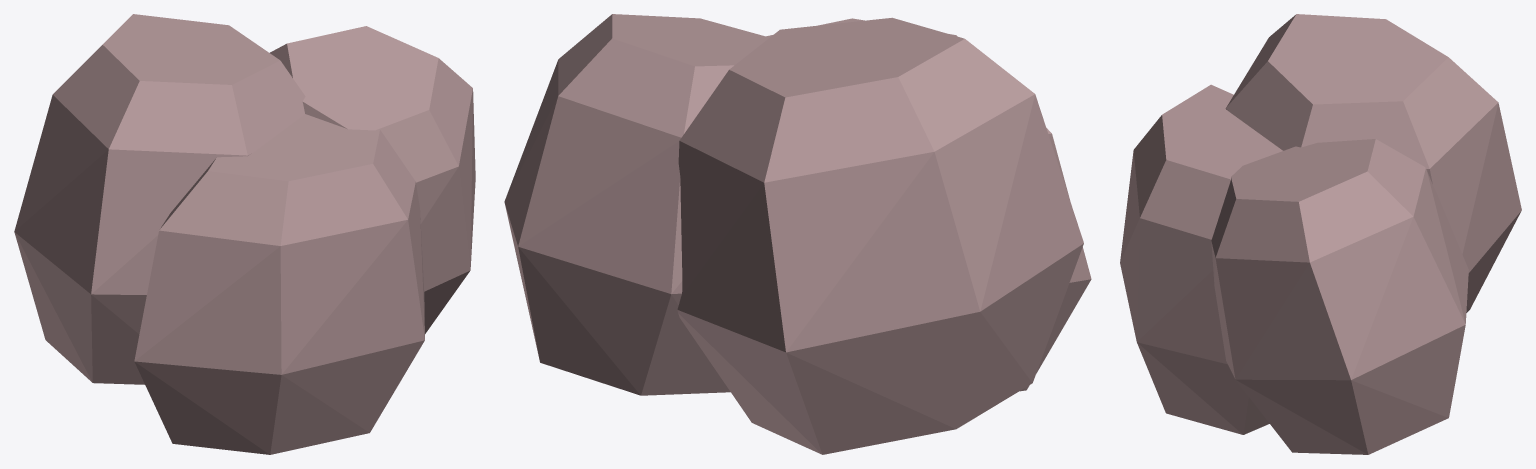
Rendered from reference-rock.gltf.
3 views of the same model, side by side, from view 1: azimuth 30°, elevation 25°; view 2: azimuth 150°, elevation 25°; view 3: azimuth 270°, elevation 25° (orthographic). The views are drawn at different scales.
Bounding box in the file's own units: 6.8 × 5.05 × 5.66.
